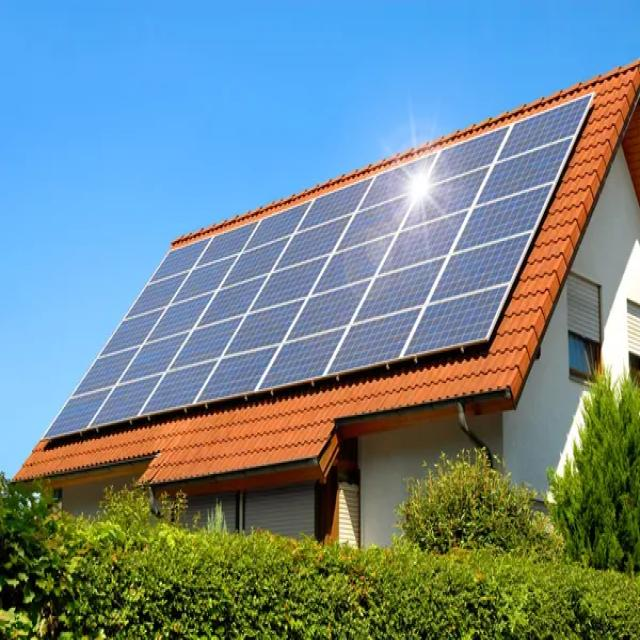clean-solar-panel: (45, 89, 592, 437)
